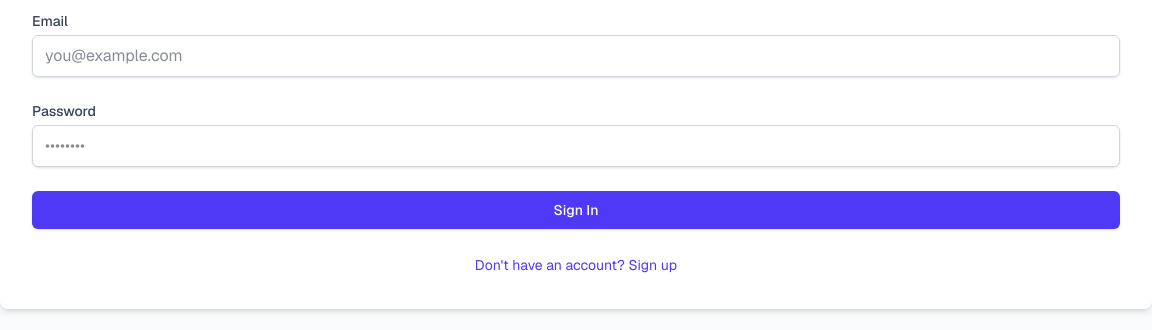
LoginForm › should toggle between sign in and sign up modes
Step 1. Click the button "Don't have an account? Sign up" → (576, 265), box [475,255,677,275]
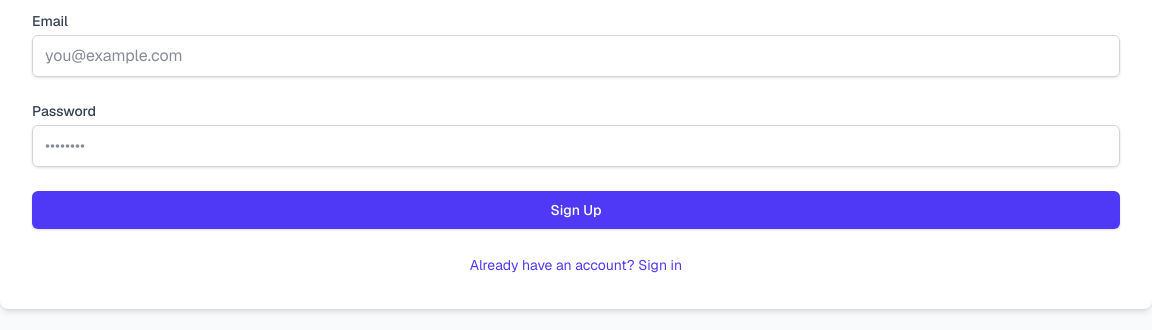
Result: the button "Sign Up" is shown at [32,191,1120,229]
Step 2. Click the button "Already have an account? Sign in" → (576, 265), box [470,255,682,275]
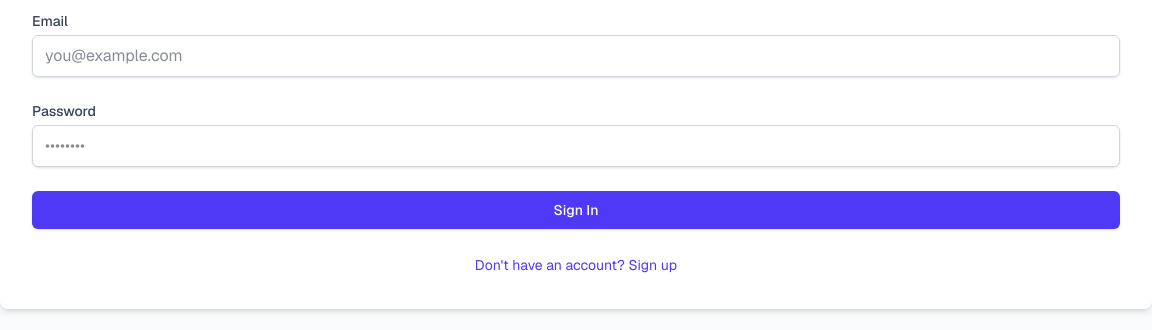
Result: the button "Sign In" is shown at [32,191,1120,229]
